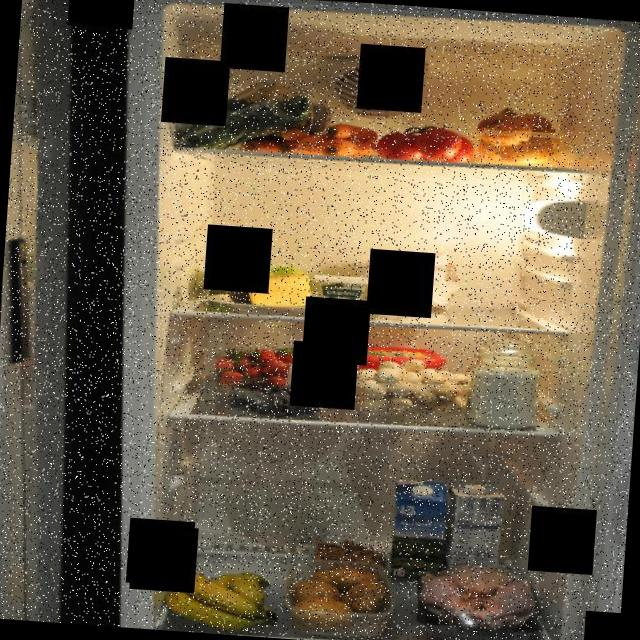Carne pollo: (412, 555, 551, 640)
Cebolla: (475, 106, 563, 170)
Champiñones: (338, 353, 472, 422)
Gambas/Langostinos: (310, 534, 390, 572)
Leche: (388, 476, 458, 586), (443, 480, 508, 588)
Mantequilla: (344, 341, 446, 384)
Manzana: (206, 254, 306, 298)
Patata: (278, 553, 392, 635)
Plátano: (160, 564, 282, 634)
Queso: (228, 268, 316, 312), (307, 272, 370, 312)
Tomate: (375, 118, 480, 167)
Zanahoria: (239, 113, 382, 160)
blueberries: (226, 376, 323, 422)
flour: (360, 242, 468, 314)
spinach: (169, 67, 332, 156)
strawberries: (202, 339, 306, 393)
sugar: (462, 334, 542, 432)
